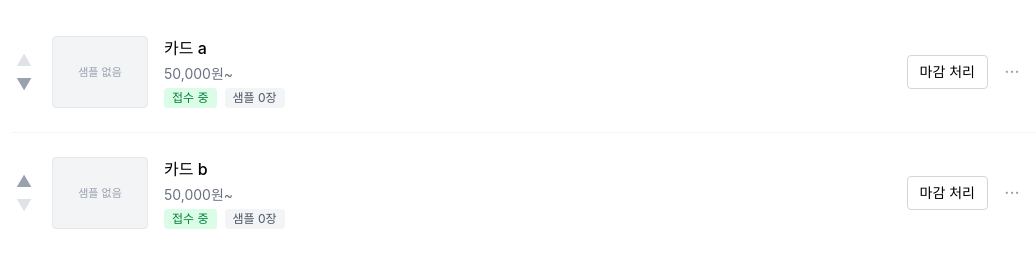
CommissionList › 원자 재정렬 PUT이 실패하면 에러를 표시하고 추가 요청을 보내지 않는다
Click the button named "아래로 이동" at (24, 84), box [12, 72, 36, 96]
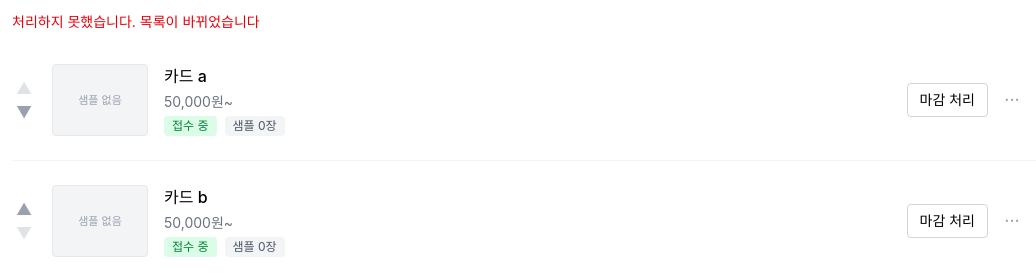
expect the text "처리하지 못했습니다. 목록이 바뀌었습니다" is shown: met, box [12, 13, 260, 30]
